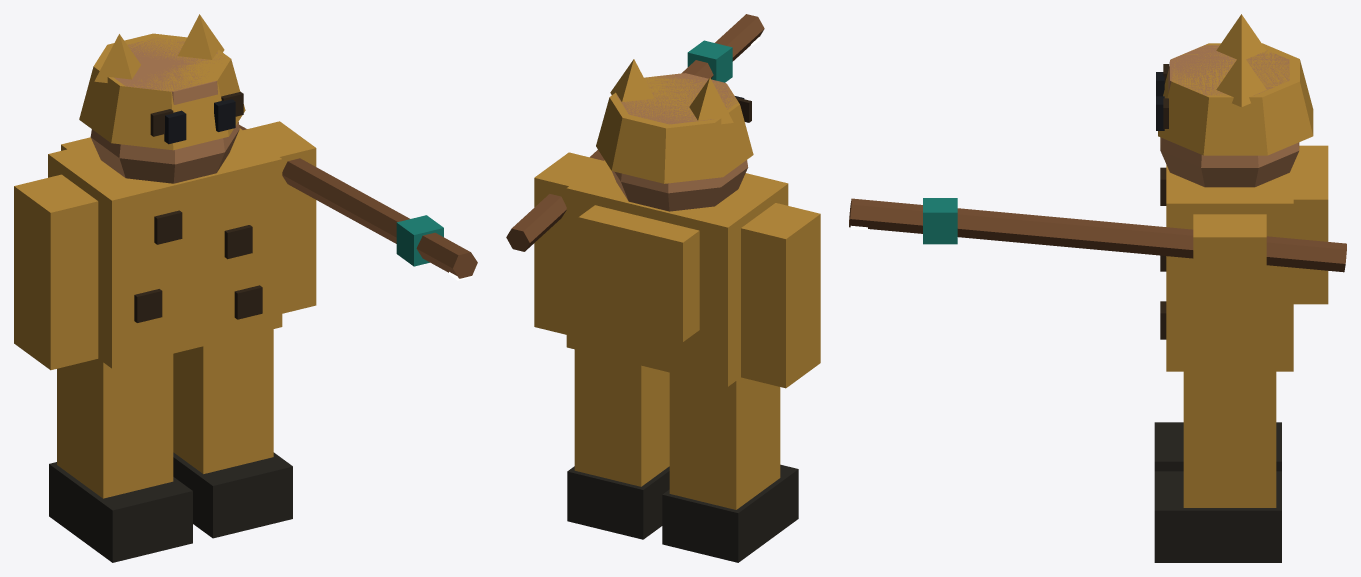
File: unit_ranger.glb
3 views of the same model, side by side, from view 1: azimuth 30°, elevation 25°; view 2: azimuth 150°, elevation 25°; view 3: azimuth 270°, elevation 25° (orthographic). The views are drawn at different scales.
Visible parts, largest first — view 1: body, leg_l, leg_r, arm_l, arm_r; view 2: body, leg_l, leg_r, arm_l, arm_r; view 3: body, arm_r, leg_r, leg_l.
Part boxes in pixels (left/top/right/bottom): body: left=48, top=14, right=282, bottom=368; leg_l: left=49, top=353, right=192, bottom=562; leg_r: left=173, top=329, right=292, bottom=538; arm_l: left=14, top=174, right=98, bottom=370; arm_r: left=239, top=121, right=477, bottom=313; body: left=566, top=59, right=788, bottom=386; leg_l: left=662, top=372, right=798, bottom=562; leg_r: left=567, top=349, right=669, bottom=539; arm_l: left=741, top=203, right=820, bottom=388; arm_r: left=506, top=14, right=764, bottom=334; body: left=1156, top=14, right=1328, bottom=371; arm_r: left=849, top=198, right=1346, bottom=394; leg_r: left=1154, top=371, right=1281, bottom=562; leg_l: left=1154, top=422, right=1281, bottom=471.
Size of the model in its own units: 0.53 by 0.925 by 0.86.
